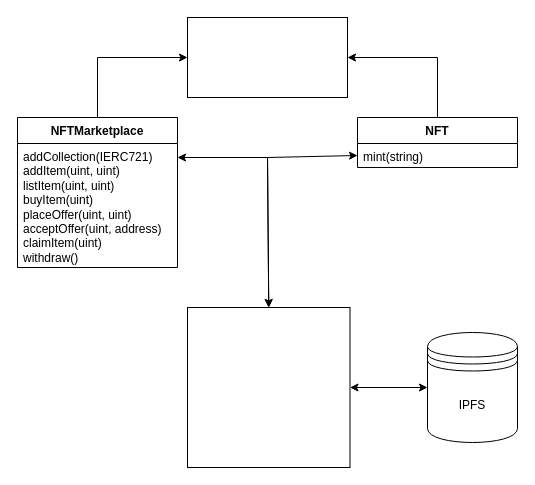
The diagram is 535 pixels wide and 485 high, and some of its shapes have lost their labels. The shapes that lost their labels are listed below. From the top down, each one's centre as x and y in pixels, then its label:
pixel 267 57: Ethereum
pixel 268 387: Front-End
